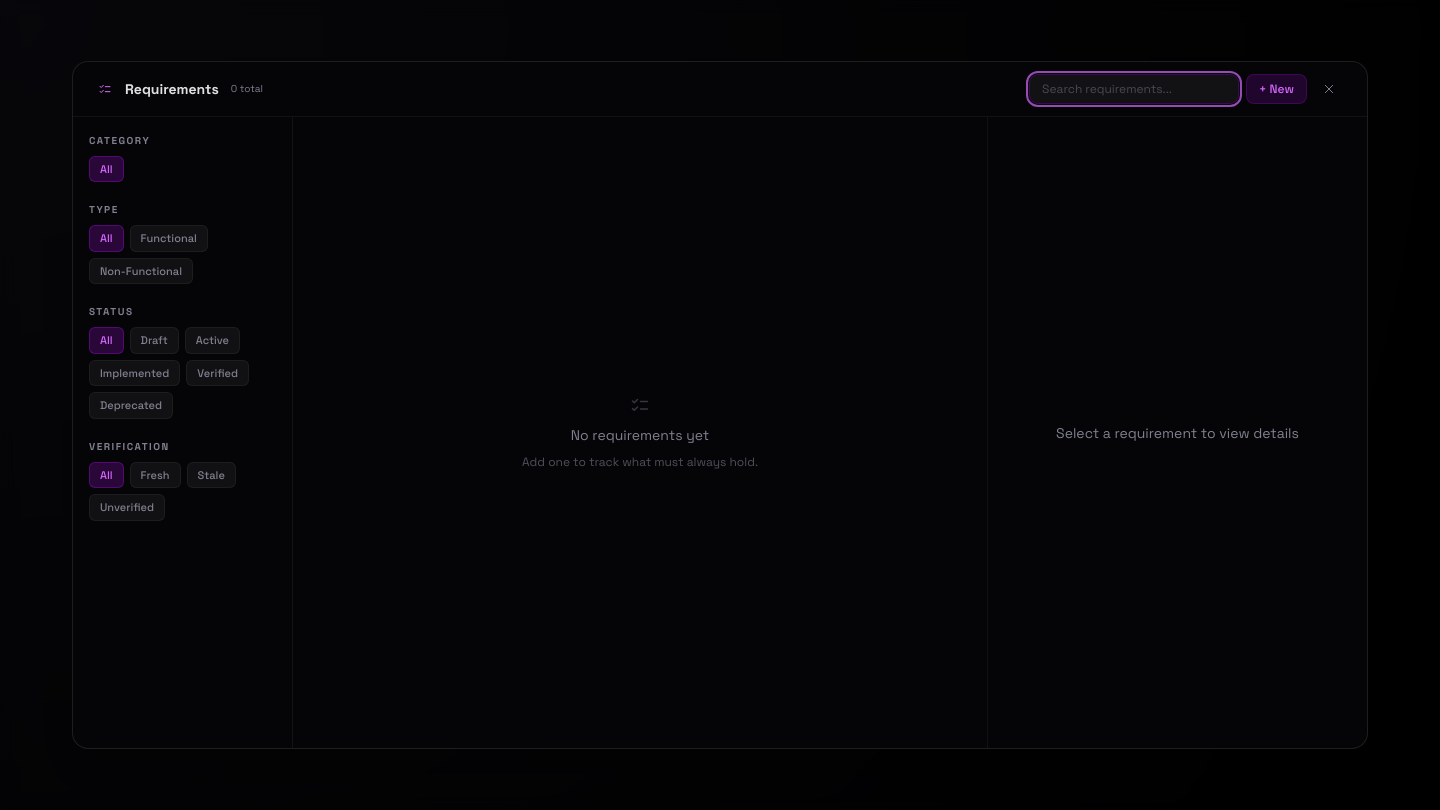
Test case: RequirementsModal › opens create dialog when + New clicked
Click the button with test id "requirements-create-btn" at (1276, 89), box [1246, 74, 1307, 104]
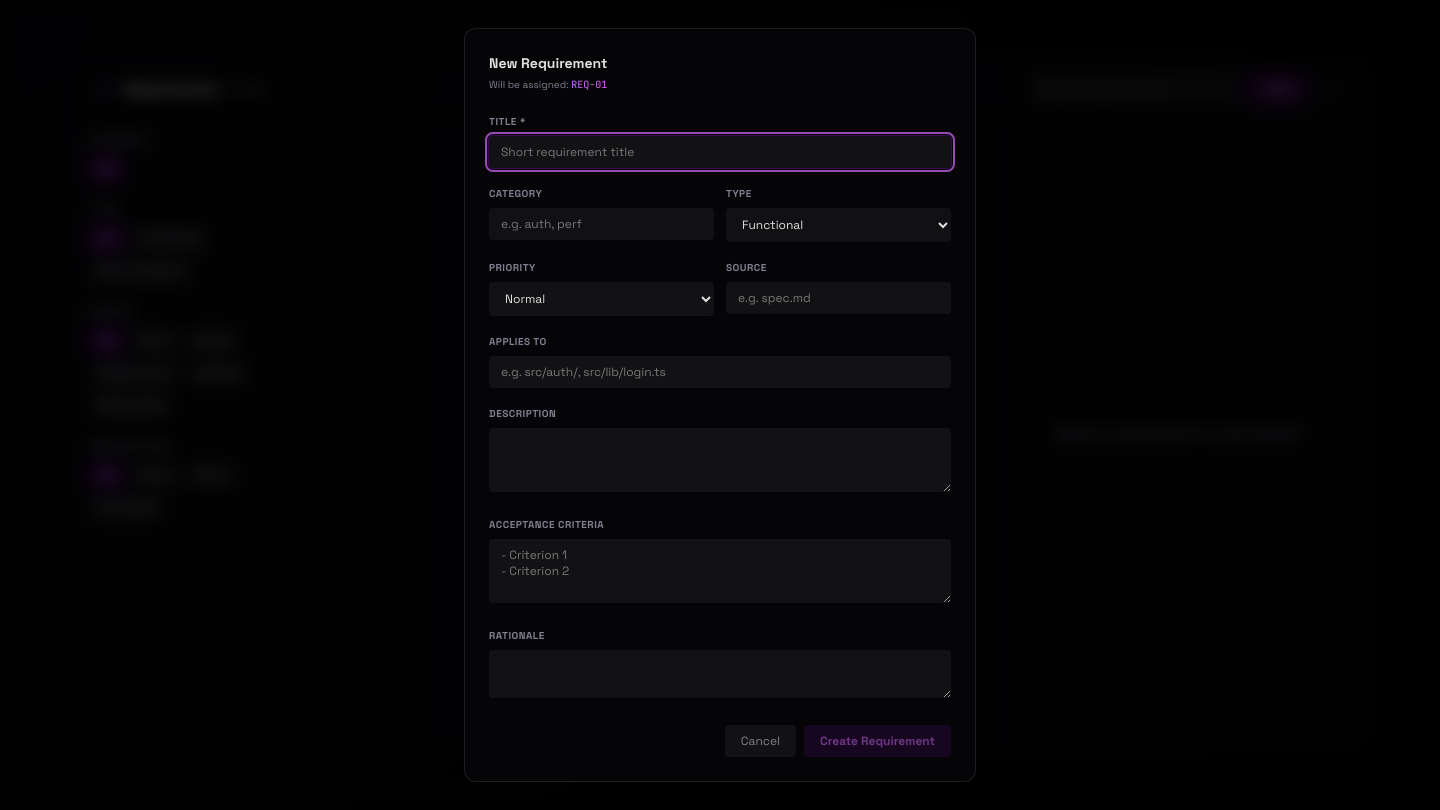
Expected: the element with test id "requirement-create-dialog" is shown
